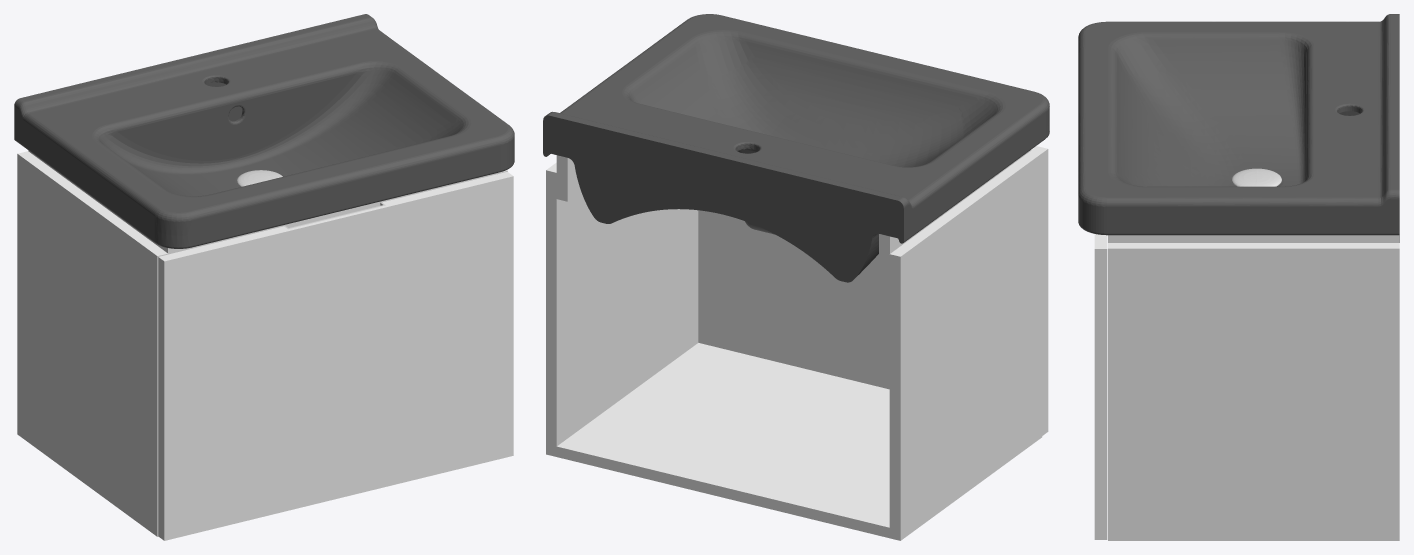
Rendered from AEC_48026.glb.
The picture shows the model from 3 angles, left to right: view 1: azimuth 30°, elevation 25°; view 2: azimuth 150°, elevation 25°; view 3: azimuth 270°, elevation 25°; orthographic projection. The views are drawn at different scales.
Visible parts, largest first — view 1: 0; view 2: 0; view 3: 0.
Part boxes in pixels (x1=…): 0: x1=14, y1=14, x2=514, y2=540; 0: x1=543, y1=14, x2=1049, y2=540; 0: x1=1078, y1=14, x2=1399, y2=540.
Size of the model in its own units: 0.6 by 0.54 by 0.45.
1 material, 1 textured.
